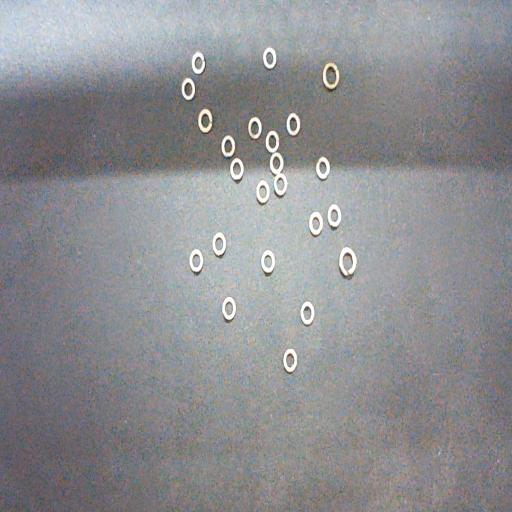washer: (338, 247, 357, 277), (322, 63, 340, 91), (261, 249, 276, 275), (327, 204, 342, 230), (300, 301, 315, 326), (190, 248, 204, 274), (222, 296, 236, 322), (181, 78, 195, 102), (198, 109, 212, 133), (221, 135, 235, 159), (230, 158, 244, 182), (212, 233, 226, 257), (284, 348, 298, 372), (309, 212, 323, 236), (256, 180, 270, 204), (273, 173, 287, 197), (248, 116, 262, 140), (286, 113, 300, 137), (192, 52, 206, 75), (316, 157, 330, 180), (266, 130, 279, 154), (270, 152, 283, 175), (263, 47, 276, 70)
